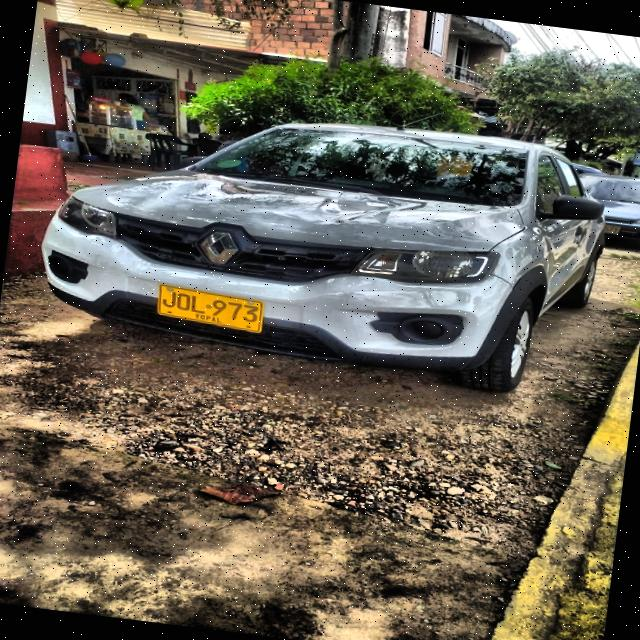3: (241, 304, 259, 323)
7: (226, 302, 243, 321)
9: (210, 299, 227, 317)
J: (160, 290, 178, 309)
L: (189, 295, 207, 314)
O: (174, 292, 192, 310)
